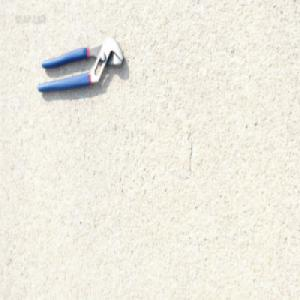Pliers: (36, 36, 124, 94)
